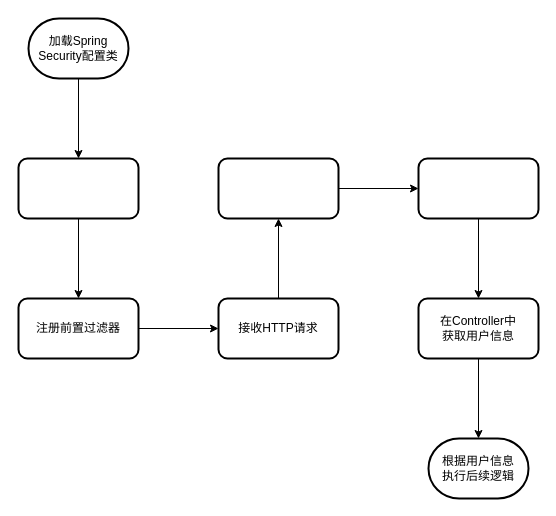
Some shapes in this 556 by 516 pixel diagram are drawn without their labels. The shapes that lost their labels are listed below. From the top down, each one's box as (x1, y1, x2, y2) in pixels, then its label:
(17, 157, 139, 219): 实例化认证管理器Bean
(217, 157, 339, 219): 在过滤器中解析token
(417, 157, 539, 219): 添加用户信息到 安全上下文
